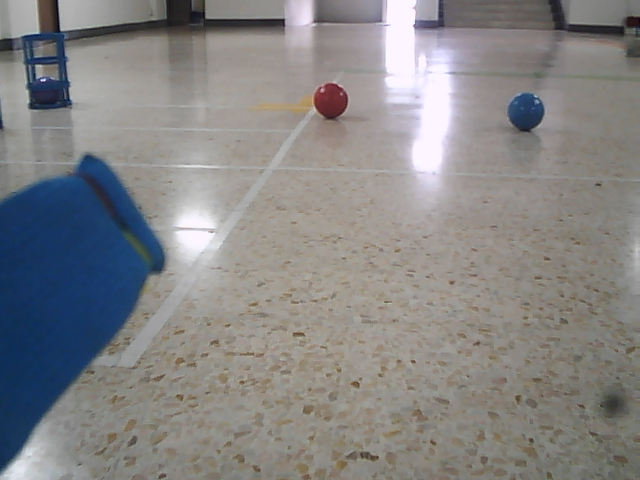Blue ball: (506, 91, 546, 133)
Cyro: (20, 31, 74, 111)
Purple ball: (29, 75, 63, 106)
Red ball: (313, 81, 349, 120)
